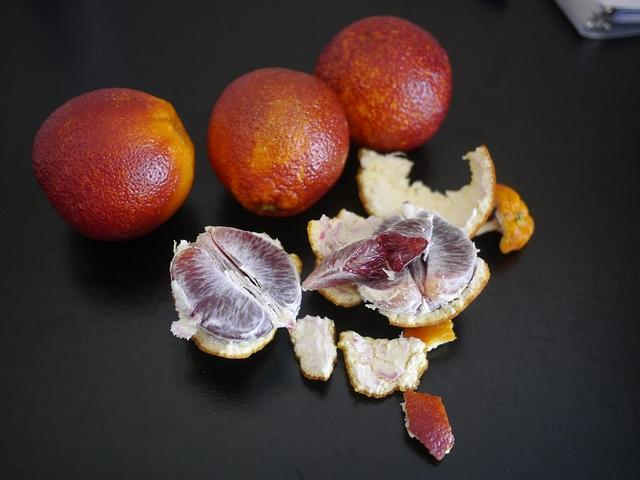orange: (32, 88, 195, 242), (206, 68, 352, 220), (312, 15, 452, 152), (170, 226, 302, 359), (302, 214, 436, 292), (424, 213, 480, 302), (408, 253, 428, 298)
